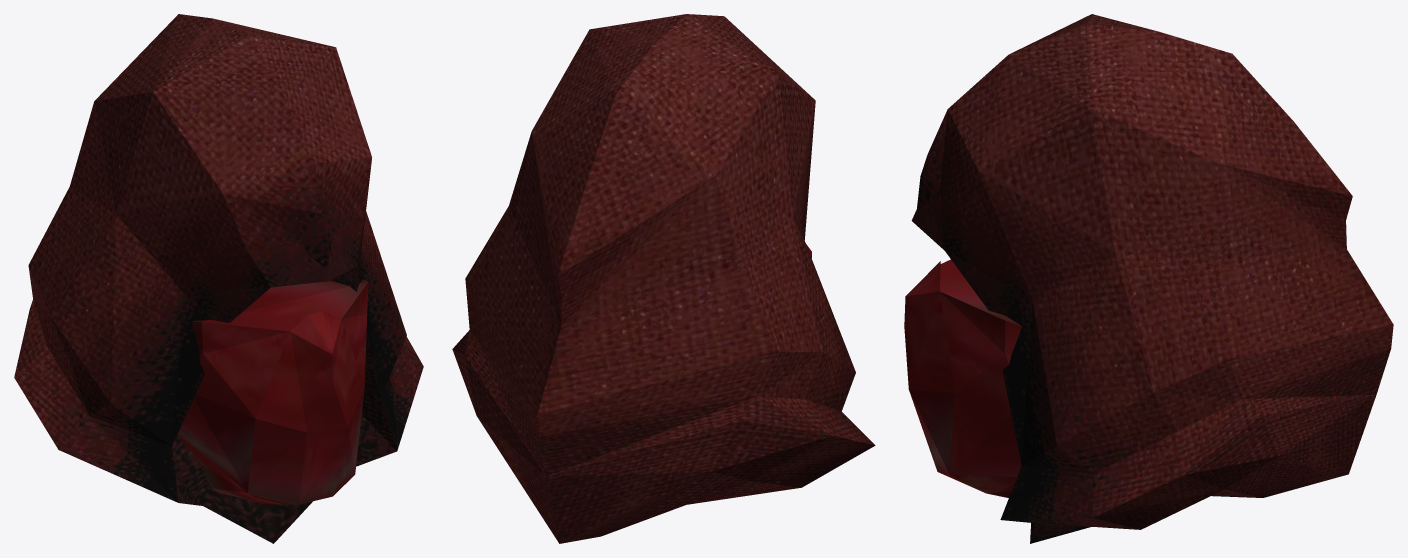
Rendered from MASK_JCZ.glb.
The picture shows the model from 3 angles, left to right: view 1: azimuth 30°, elevation 25°; view 2: azimuth 150°, elevation 25°; view 3: azimuth 270°, elevation 25°; orthographic projection. The views are drawn at different scales.
Parts seen in each view (by area): view 1: MASK_JCZ; view 2: MASK_JCZ; view 3: MASK_JCZ.
Boxes of the visible parts, x1,y1,x2,y2 form: MASK_JCZ: (14,14,423,543); MASK_JCZ: (452,14,875,543); MASK_JCZ: (904,14,1393,543).
Bounding box in the file's own units: 0.3241 × 0.4106 × 0.3501.
Materials: 2 (2 with a texture image).
